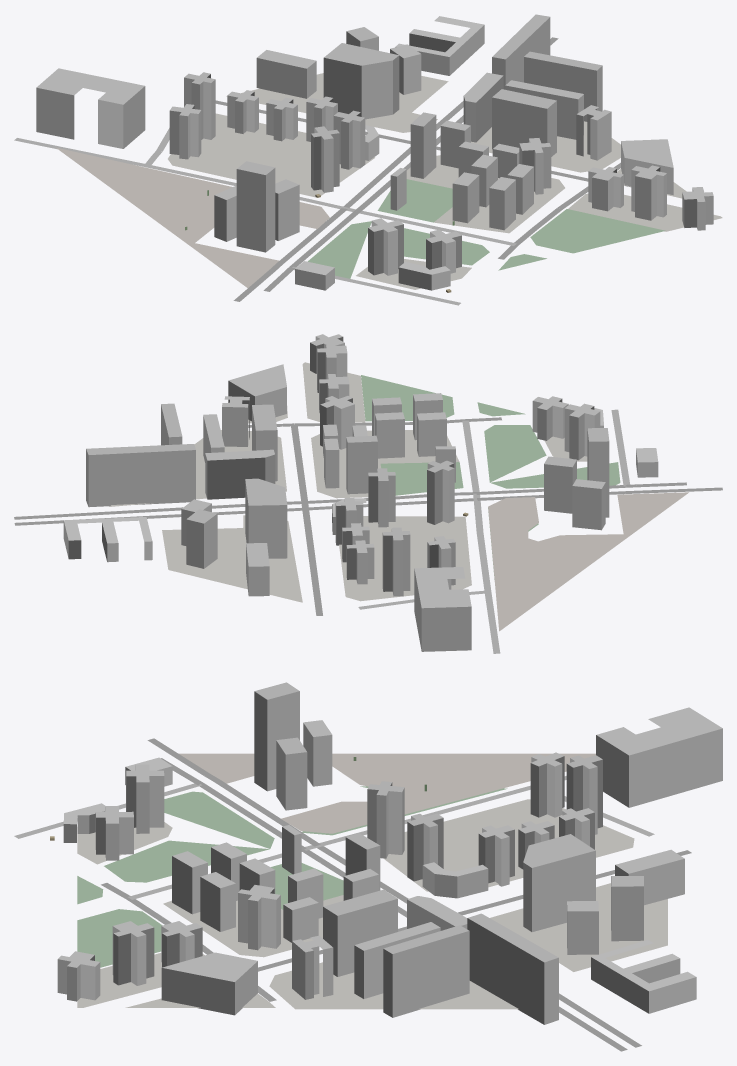
3 views of the same model, one above another, from view 1: azimuth 30°, elevation 25°; view 2: azimuth 150°, elevation 25°; view 3: azimuth 270°, elevation 25° (orthographic). The views are drawn at different scales.
Size of the model in its own units: 604 by 95.22 by 600.
